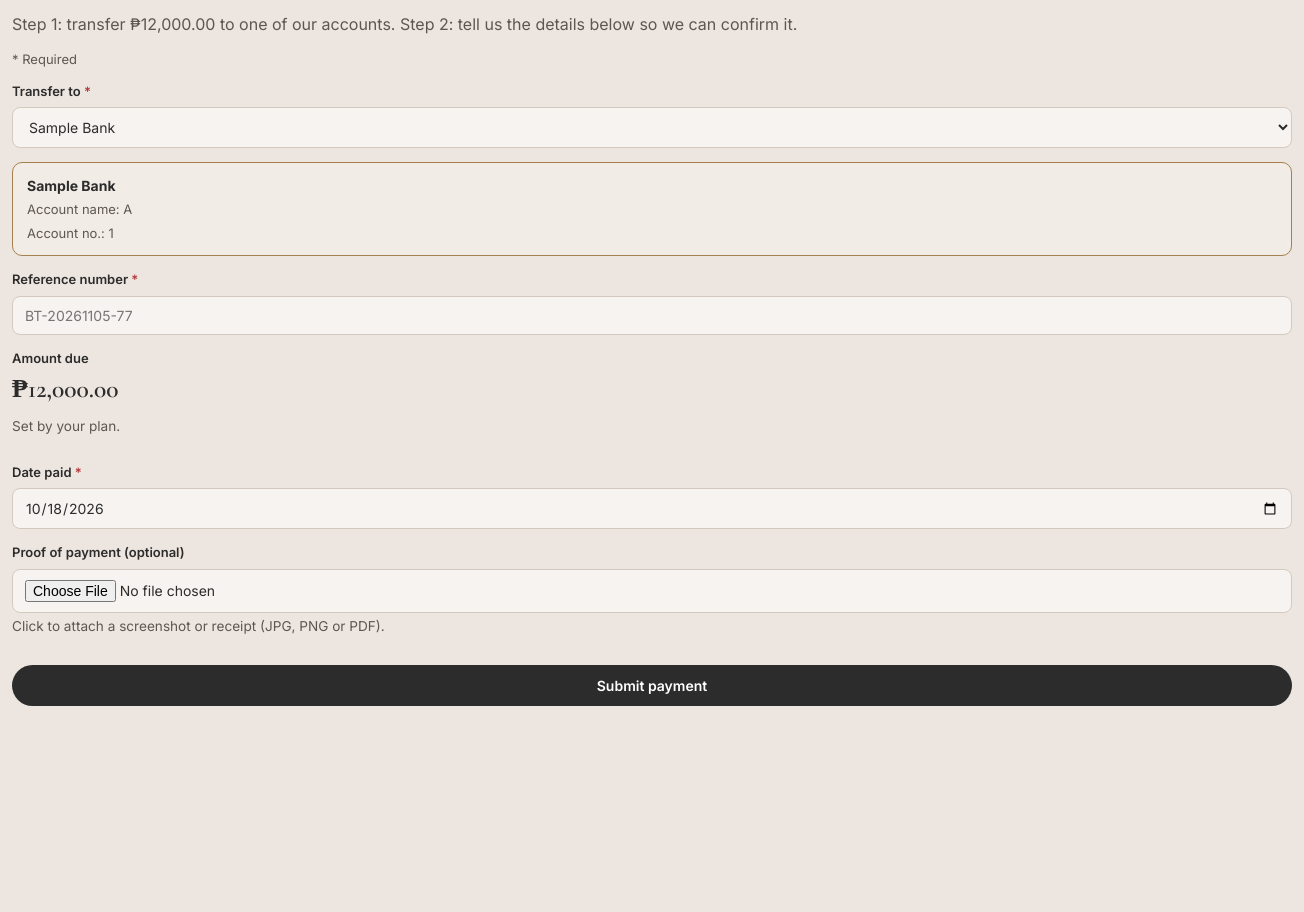
ManualPaymentForm › shows the server 409 message "Pay the earlier installment first"
This screenshot has width=1304, height=912.
Type "BT-9" into the field labelled "Reference number" at (652, 315), box [12, 296, 1292, 334]
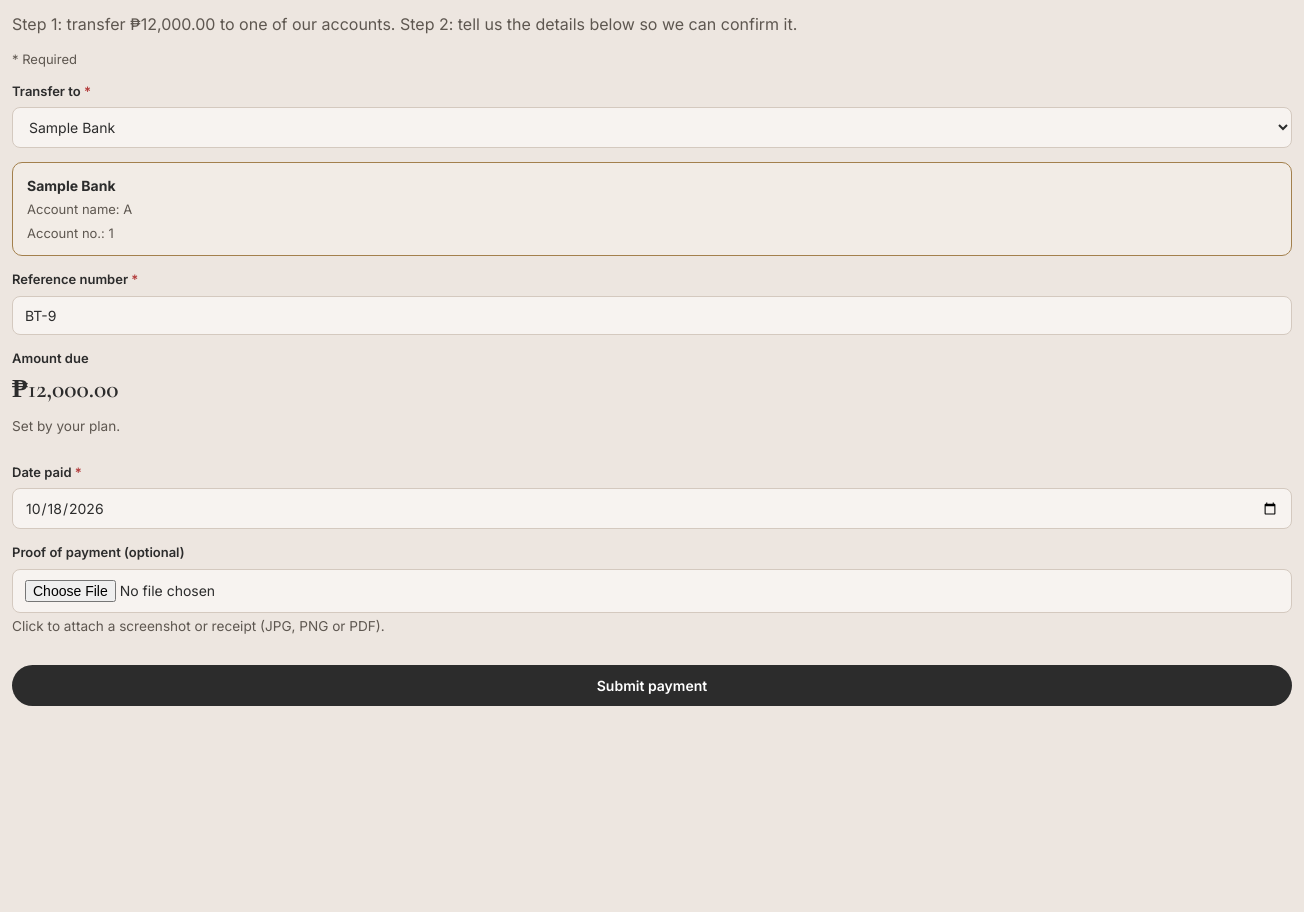
Click the button "Submit payment" at (652, 685), box [12, 665, 1292, 706]
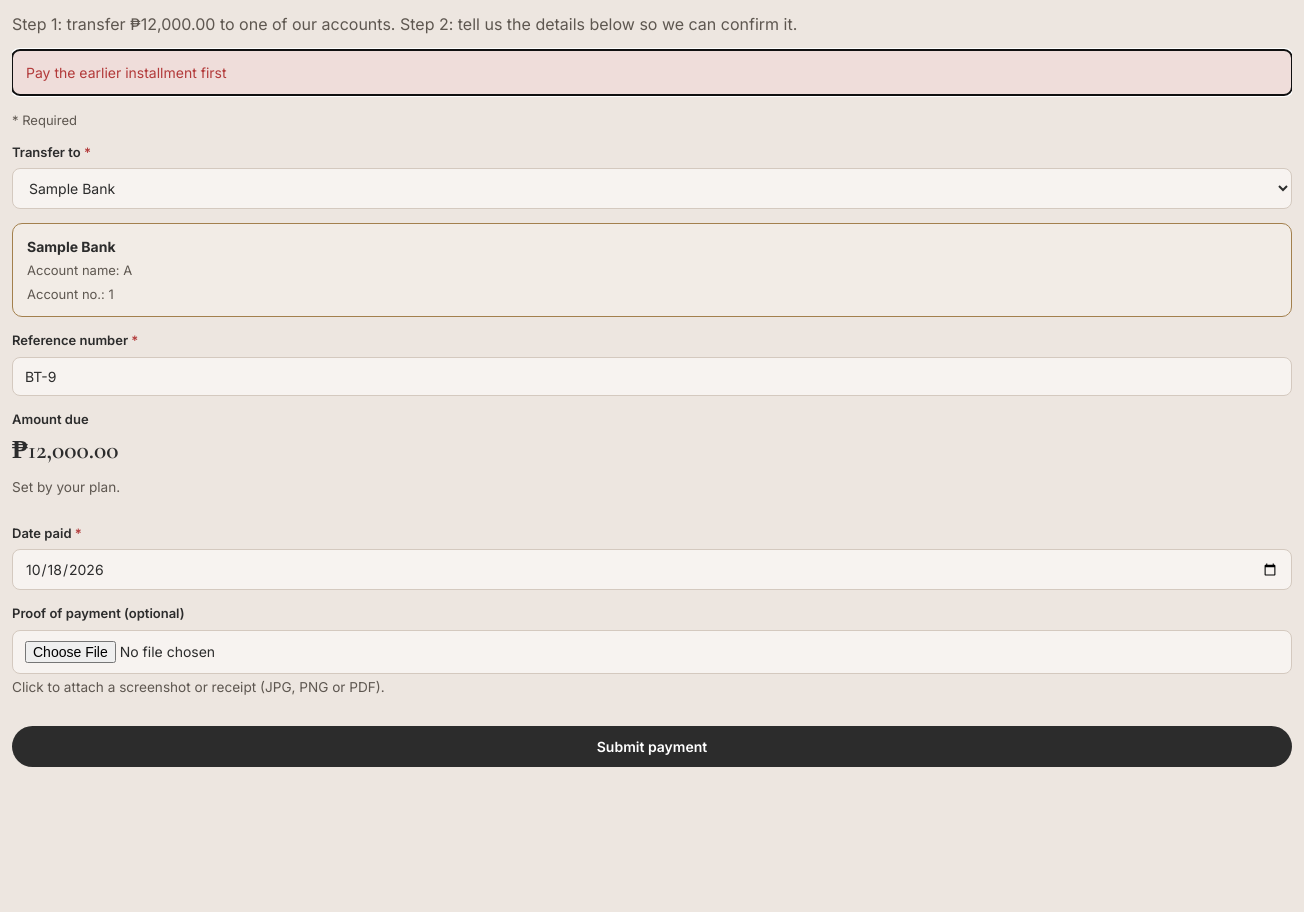
Now the message reads "Pay the earlier installment first", box [26, 64, 226, 81]
